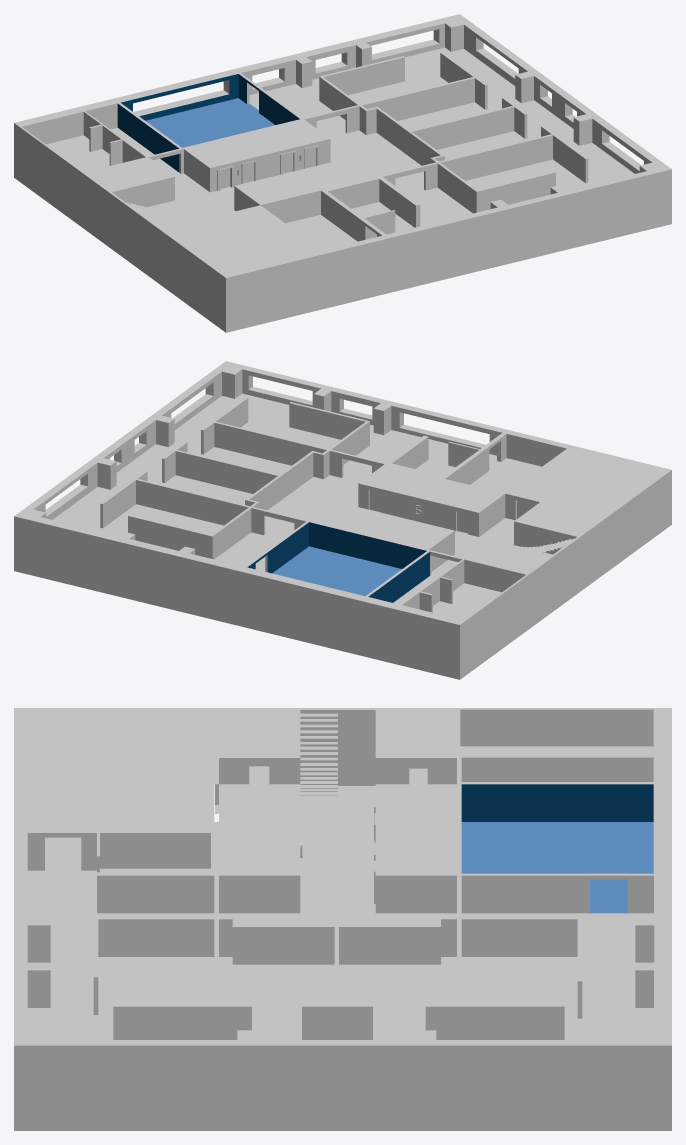
Rendered from designstudio.gltf.
3 views of the same model, one above another, from view 1: azimuth 30°, elevation 25°; view 2: azimuth 150°, elevation 25°; view 3: azimuth 270°, elevation 25° (orthographic). The views are drawn at different scales.
Parts seen in each view (by area): view 1: root; view 2: root; view 3: root.
Boxes of the visible parts, x1=… form: root: x1=14, y1=14, x2=671, y2=332; root: x1=14, y1=361, x2=671, y2=679; root: x1=14, y1=708, x2=671, y2=1130.
Bounding box in the file's own units: 44.7 × 5.25 × 36.81.
